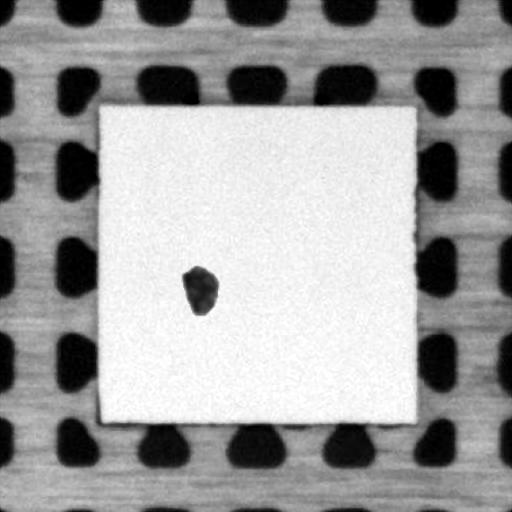DIE_INK: (176, 262, 220, 318)
